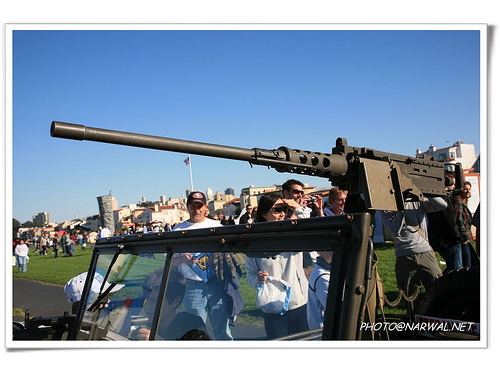rifle: (43, 105, 453, 207)
